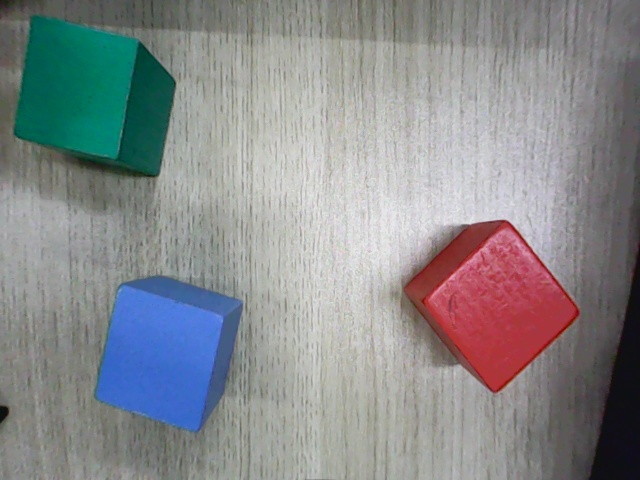upside of big cube: (423, 222, 583, 393), (94, 285, 224, 432), (13, 16, 139, 161)
